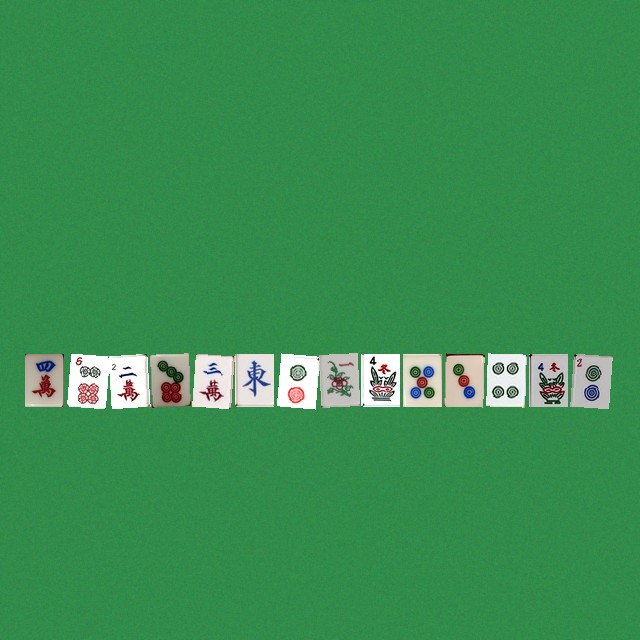tile: (24, 353, 63, 406), (66, 353, 105, 406), (108, 353, 147, 406), (150, 353, 189, 406), (192, 353, 231, 406), (234, 353, 273, 406), (276, 353, 315, 406), (318, 353, 357, 406), (360, 353, 399, 406), (402, 353, 441, 406), (444, 353, 483, 406), (486, 353, 525, 406), (528, 353, 567, 406), (570, 353, 609, 406)
